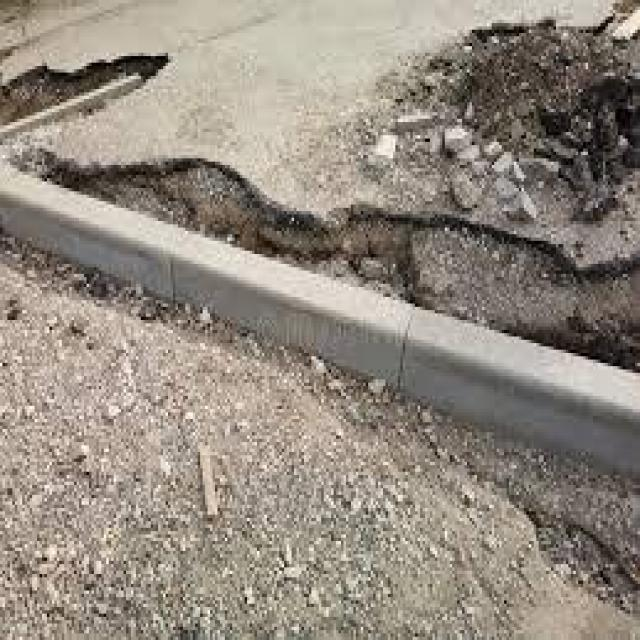curb: (1, 159, 640, 492)
